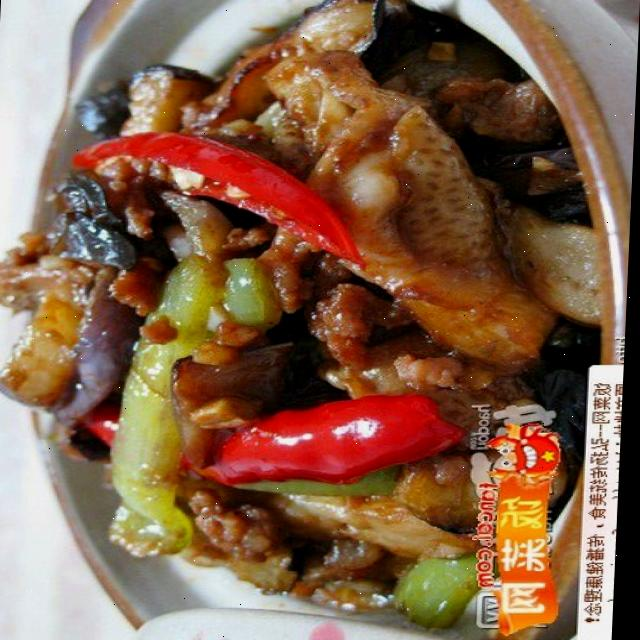鸡蛋料理: (0, 1, 628, 618)
